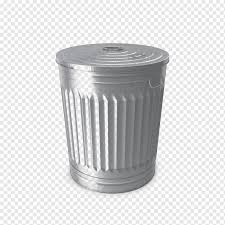metal: (55, 40, 170, 197)
